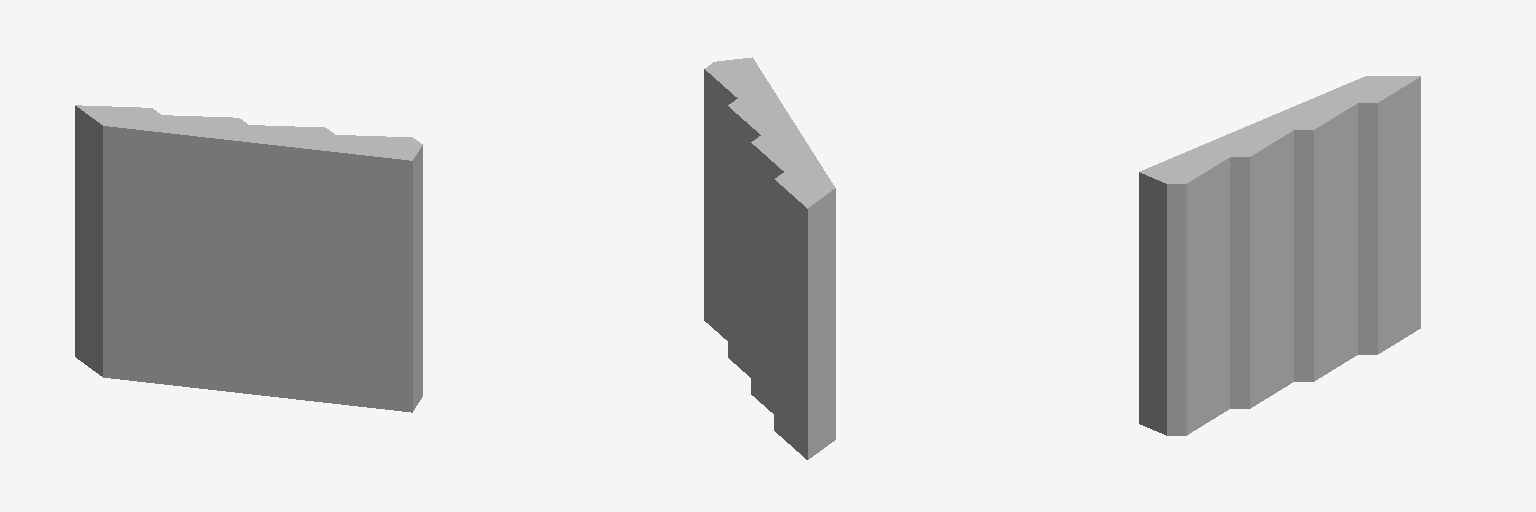
Rendered from cabin-roof.obj.
The picture shows the model from 3 angles: view 1: azimuth 30°, elevation 25°; view 2: azimuth 150°, elevation 25°; view 3: azimuth 270°, elevation 25°; orthographic projection.
Parts seen in each view (by area): view 1: cabin-roof; view 2: cabin-roof; view 3: cabin-roof.
Boxes of the visible parts, x1,y1,x2,y2 form: cabin-roof: [75, 105, 422, 412]; cabin-roof: [704, 57, 835, 459]; cabin-roof: [1139, 76, 1420, 435].
Size of the model in its own units: 1.28 by 1.4 by 1.42.